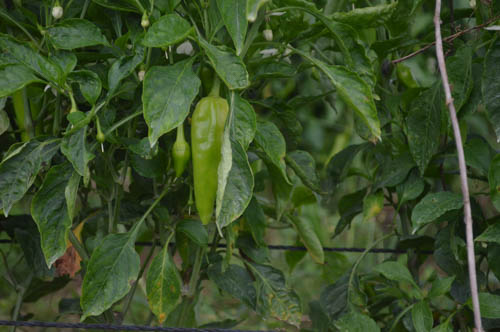ChiliPepper: (187, 86, 232, 236), (8, 79, 44, 145), (160, 132, 192, 180)
